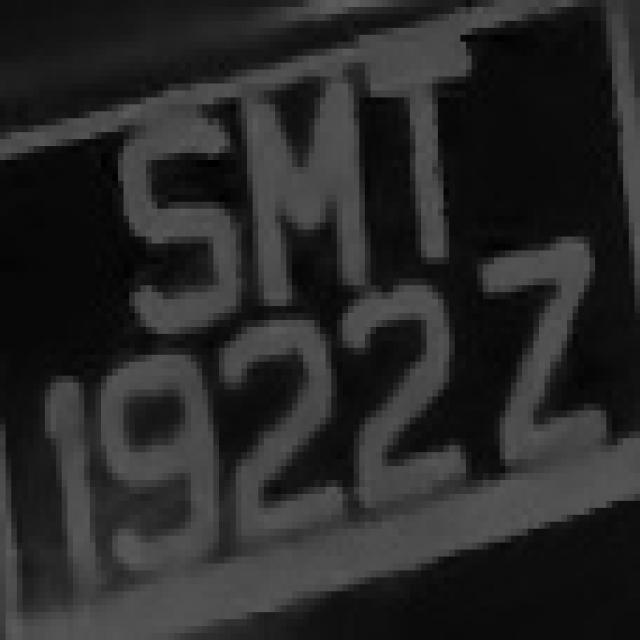1: (17, 362, 112, 612)
2: (331, 299, 494, 515), (208, 313, 342, 543)
9: (96, 313, 230, 577)
M: (230, 49, 371, 299)
S: (101, 132, 247, 341)
T: (348, 14, 477, 250)
Z: (466, 223, 623, 473)
